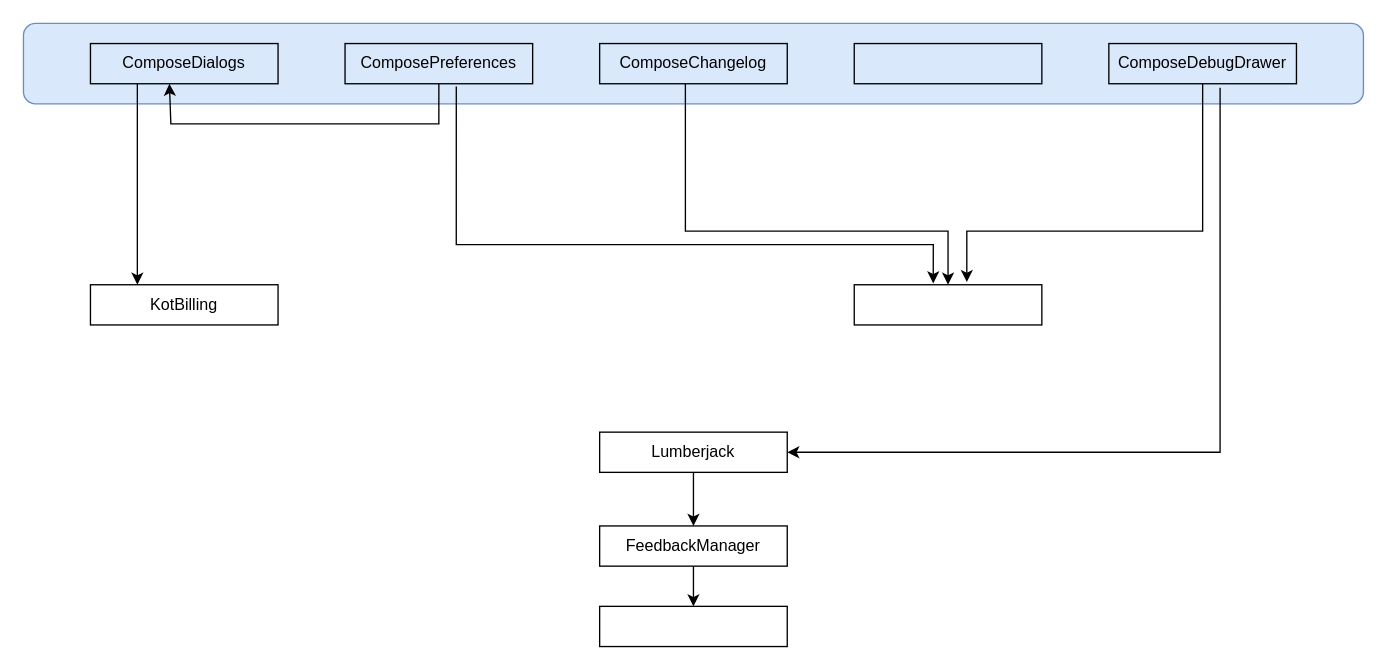
Image size: 1387x670. Some labels were removed from this diagram. The shapes that lost their labels are listed below. From the top down, each one's centre as x and y in pixels, then its label:
At point 947,63: "ComposeThemer".
At point 947,304: "KotPreferences".
At point 692,626: "CacheFileProvider".
